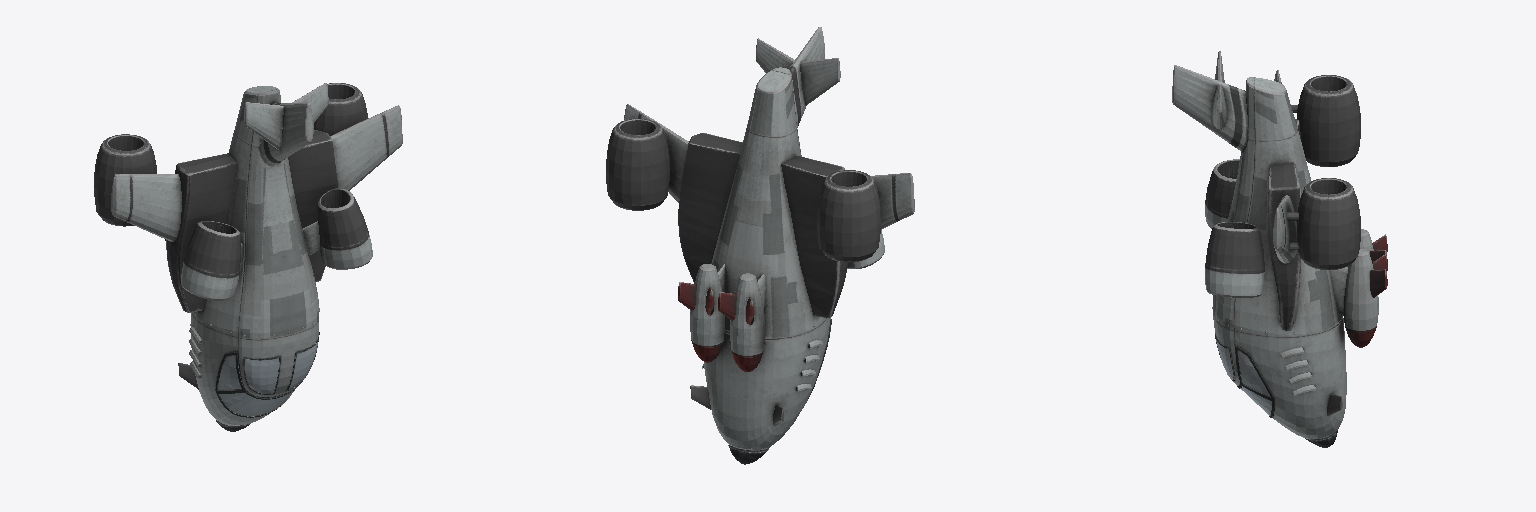
The picture shows the model from 3 angles: view 1: azimuth 30°, elevation 25°; view 2: azimuth 150°, elevation 25°; view 3: azimuth 270°, elevation 25°; orthographic projection.
Parts seen in each view (by area): view 1: Object.1; view 2: Object.1; view 3: Object.1.
Part boxes in pixels (left/top/right/bottom): Object.1: left=94, top=83, right=402, bottom=431; Object.1: left=606, top=27, right=914, bottom=464; Object.1: left=1172, top=51, right=1387, bottom=447.
Size of the model in its own units: 37.16 by 46.79 by 23.9.
1 materials, 1 textured.